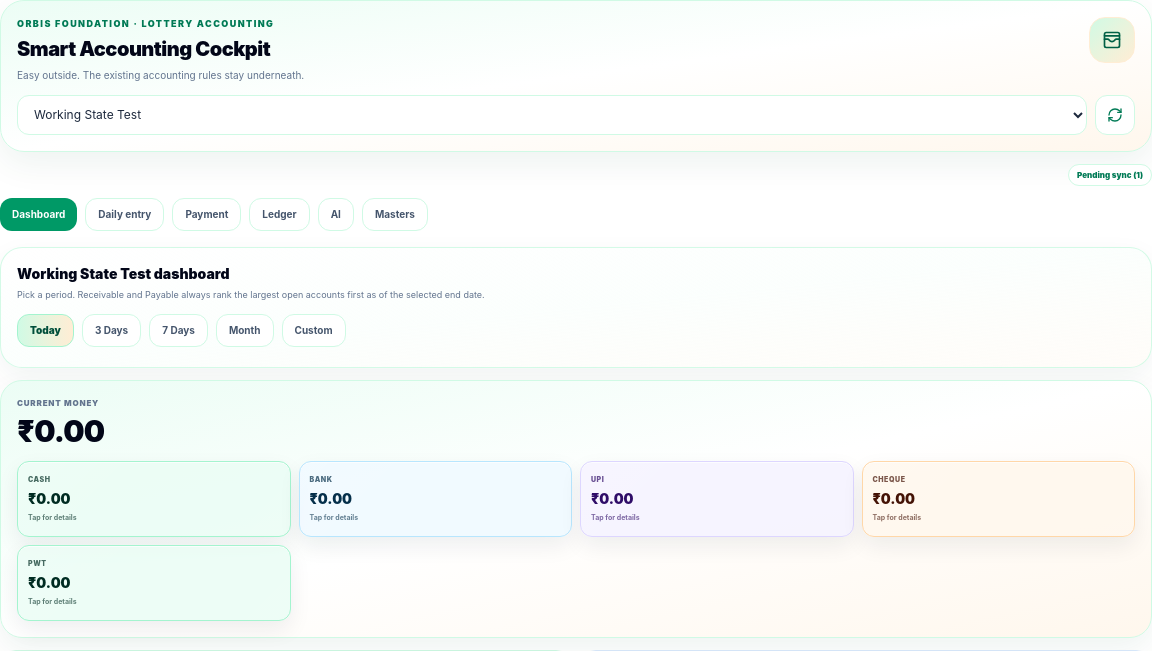
LotteryAccountingWorkspace local working state › clears local state and opens create workspace through the no-id refresh path
Check: the heading "Working State Test dashboard" is shown, box [17, 265, 229, 282]
Click the button "Daily entry". click: (125, 214)
box: [85, 198, 164, 231]
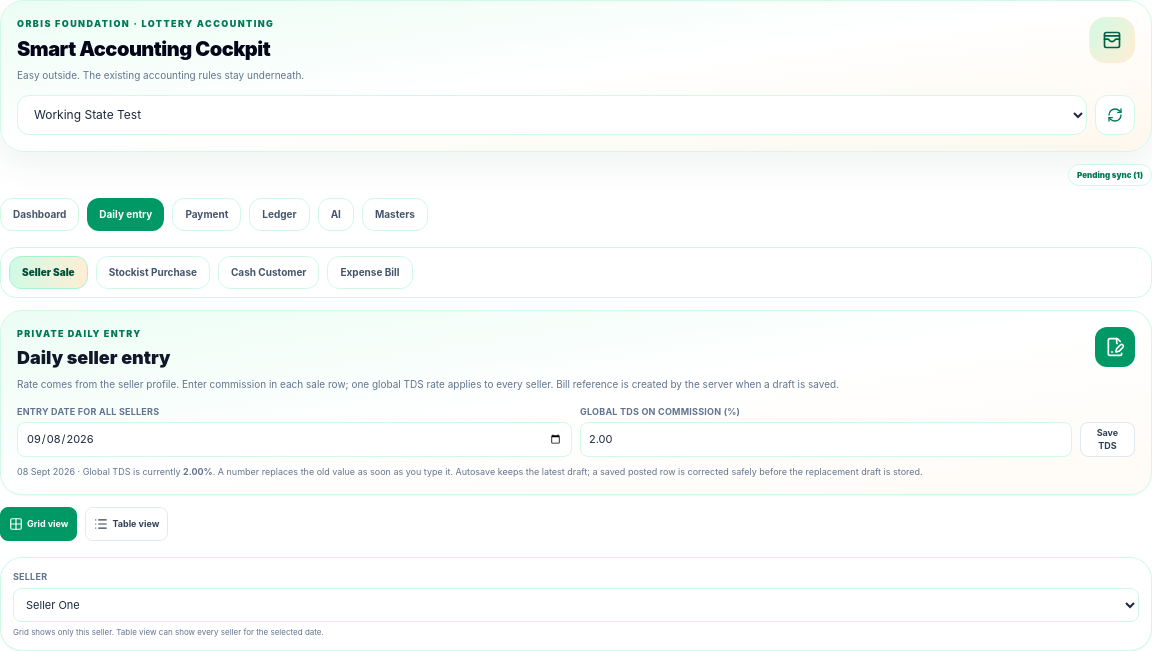
Check: the text named "Accounting local sync status" reads "Pending sync (1)", box [1077, 170, 1143, 180]
Select "Create organization" in the dropdown named "Accounting organization". click: (552, 115)
box: [17, 95, 1087, 135]
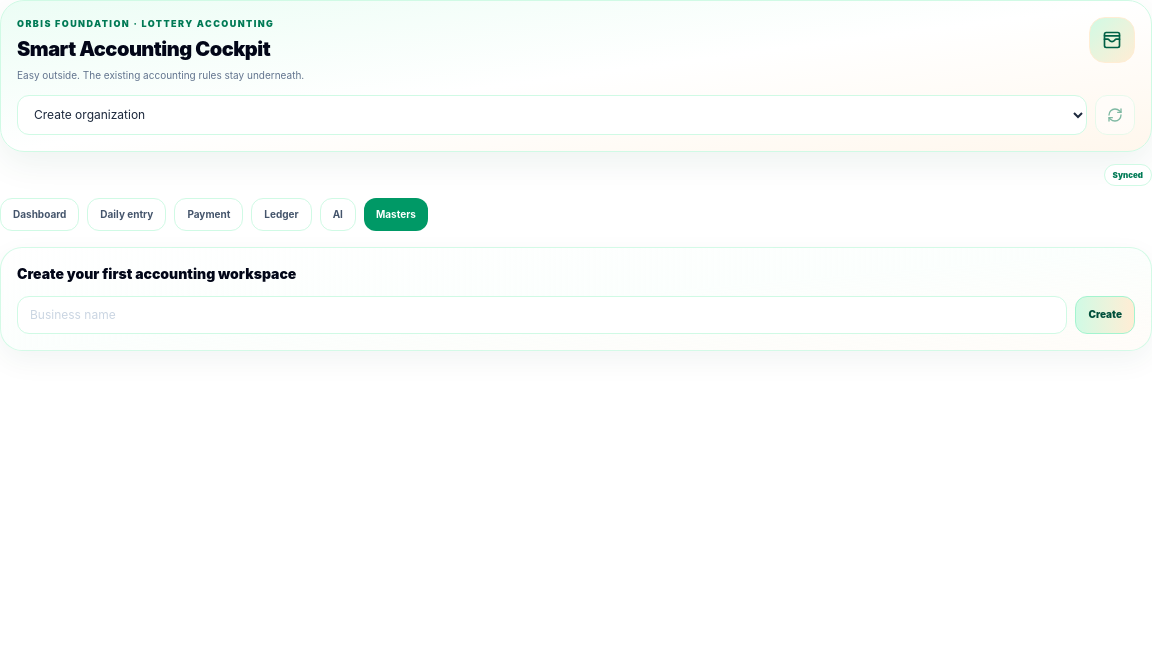
Check: the heading "Create your first accounting workspace" is shown, box [17, 265, 296, 282]
Check: the text named "Accounting local sync status" reads "Synced", box [1112, 170, 1143, 180]
